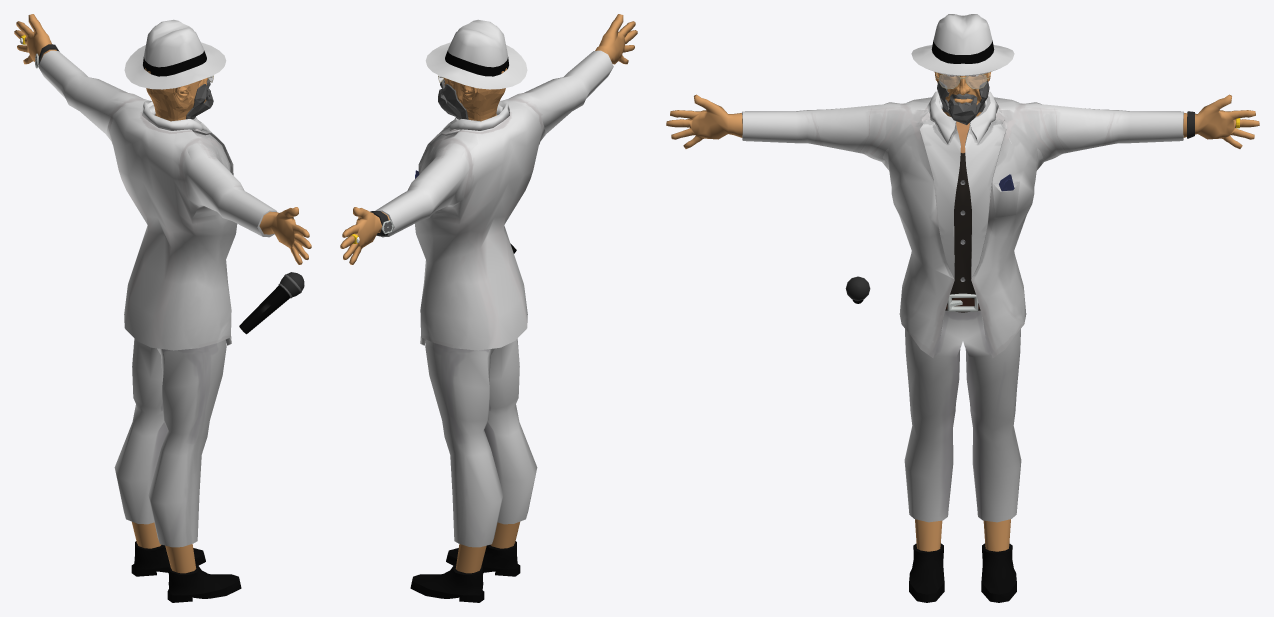
3 renders of one model, left to right at view 1: azimuth 30°, elevation 25°; view 2: azimuth 150°, elevation 25°; view 3: azimuth 270°, elevation 25°, orthographic.
Visible parts, largest first — view 1: Body, Hat, Head, Microphone, Beard; view 2: Body, Hat, Head, Beard; view 3: Body, Hat, Beard, Head.
Boxes of the visible parts, x1,y1,x2,y2 form: Body: (14, 14, 311, 602); Hat: (124, 19, 226, 89); Head: (145, 68, 208, 121); Microphone: (239, 272, 304, 334); Beard: (186, 79, 213, 119); Body: (340, 14, 637, 602); Hat: (425, 19, 527, 89); Head: (443, 68, 506, 121); Beard: (438, 79, 468, 119); Body: (666, 91, 1259, 602); Hat: (911, 14, 1014, 75); Beard: (937, 81, 989, 124); Head: (934, 72, 990, 122).
Bounding box in the file's own units: 2.04 × 9.1 × 8.7.
Materials: 5 (4 with a texture image).
